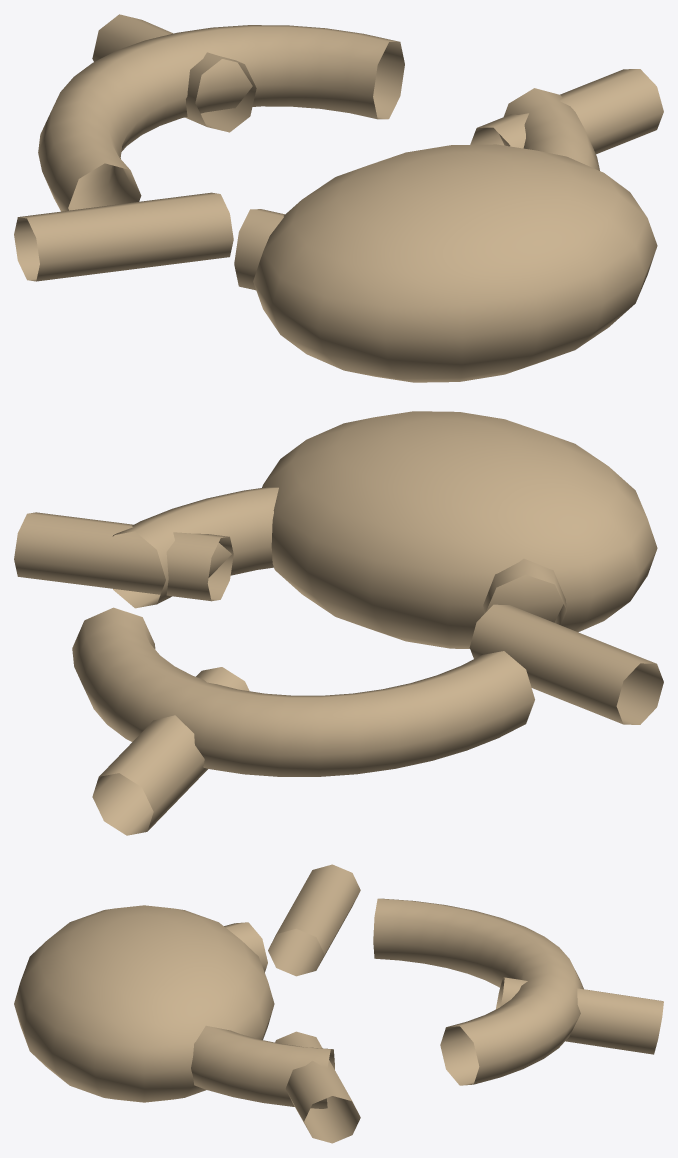
3 renders of one model, top to bottom at view 1: azimuth 30°, elevation 25°; view 2: azimuth 150°, elevation 25°; view 3: azimuth 270°, elevation 25°, orthographic. The views are drawn at different scales.
Visible parts, largest first — view 1: c7:centrum, c7:neural-arch--1, c7:transverse--1, c7:transverse-1, c7:neural-arch-1, c7:spinous-process; view 2: c7:centrum, c7:neural-arch--1, c7:transverse-1, c7:transverse--1, c7:neural-arch-1, c7:spinous-process; view 3: c7:centrum, c7:neural-arch--1, c7:neural-arch-1, c7:transverse--1, c7:spinous-process, c7:transverse-1.
Boxes of the visible parts, left/top/right/bottom form: c7:centrum: left=253, top=144, right=657, bottom=382; c7:neural-arch--1: left=38, top=25, right=404, bottom=211; c7:transverse--1: left=14, top=192, right=233, bottom=281; c7:transverse-1: left=470, top=69, right=663, bottom=154; c7:neural-arch-1: left=234, top=88, right=599, bottom=290; c7:spinous-process: left=92, top=14, right=256, bottom=132; c7:centrum: left=262, top=411, right=657, bottom=648; c7:neural-arch--1: left=72, top=607, right=534, bottom=776; c7:transverse-1: left=14, top=512, right=233, bottom=601; c7:transverse--1: left=469, top=604, right=663, bottom=724; c7:neural-arch-1: left=112, top=487, right=566, bottom=625; c7:spinous-process: left=92, top=667, right=249, bottom=835; c7:centrum: left=14, top=905, right=274, bottom=1102; c7:neural-arch--1: left=373, top=898, right=583, bottom=1085; c7:neural-arch-1: left=191, top=922, right=334, bottom=1108; c7:transverse--1: left=268, top=864, right=360, bottom=976; c7:spinous-process: left=495, top=977, right=663, bottom=1054; c7:transverse-1: left=275, top=1031, right=360, bottom=1143.
Size of the model in its own units: 0.129 by 0.0365 by 0.1505.
